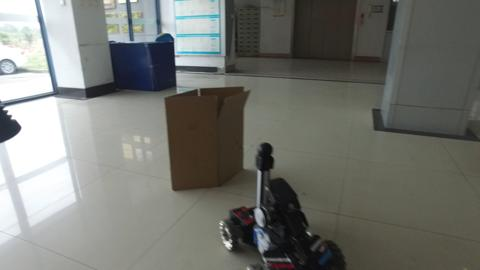box: (162, 82, 243, 189)
chariot: (215, 137, 348, 267)
